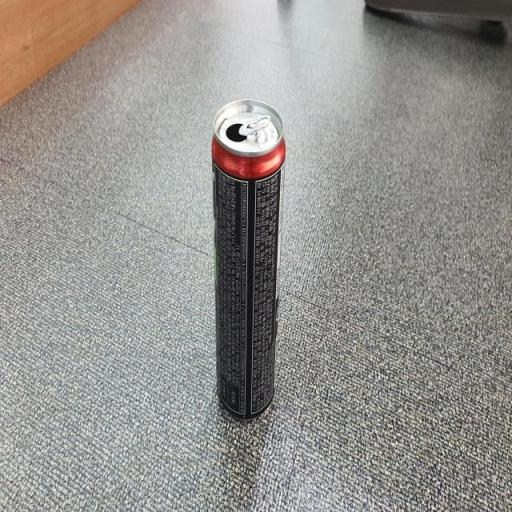metal: (184, 72, 318, 453)
